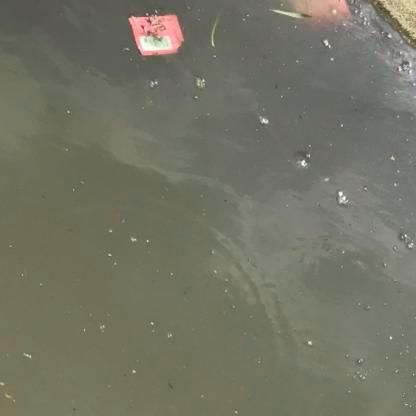Trash: (128, 11, 184, 59)
